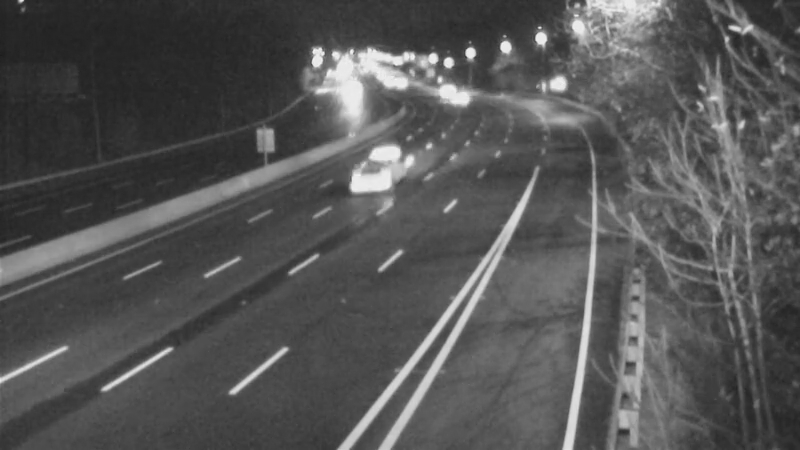vehicle: (336, 135, 416, 215), (415, 63, 465, 113), (436, 72, 486, 122), (326, 70, 376, 120)
